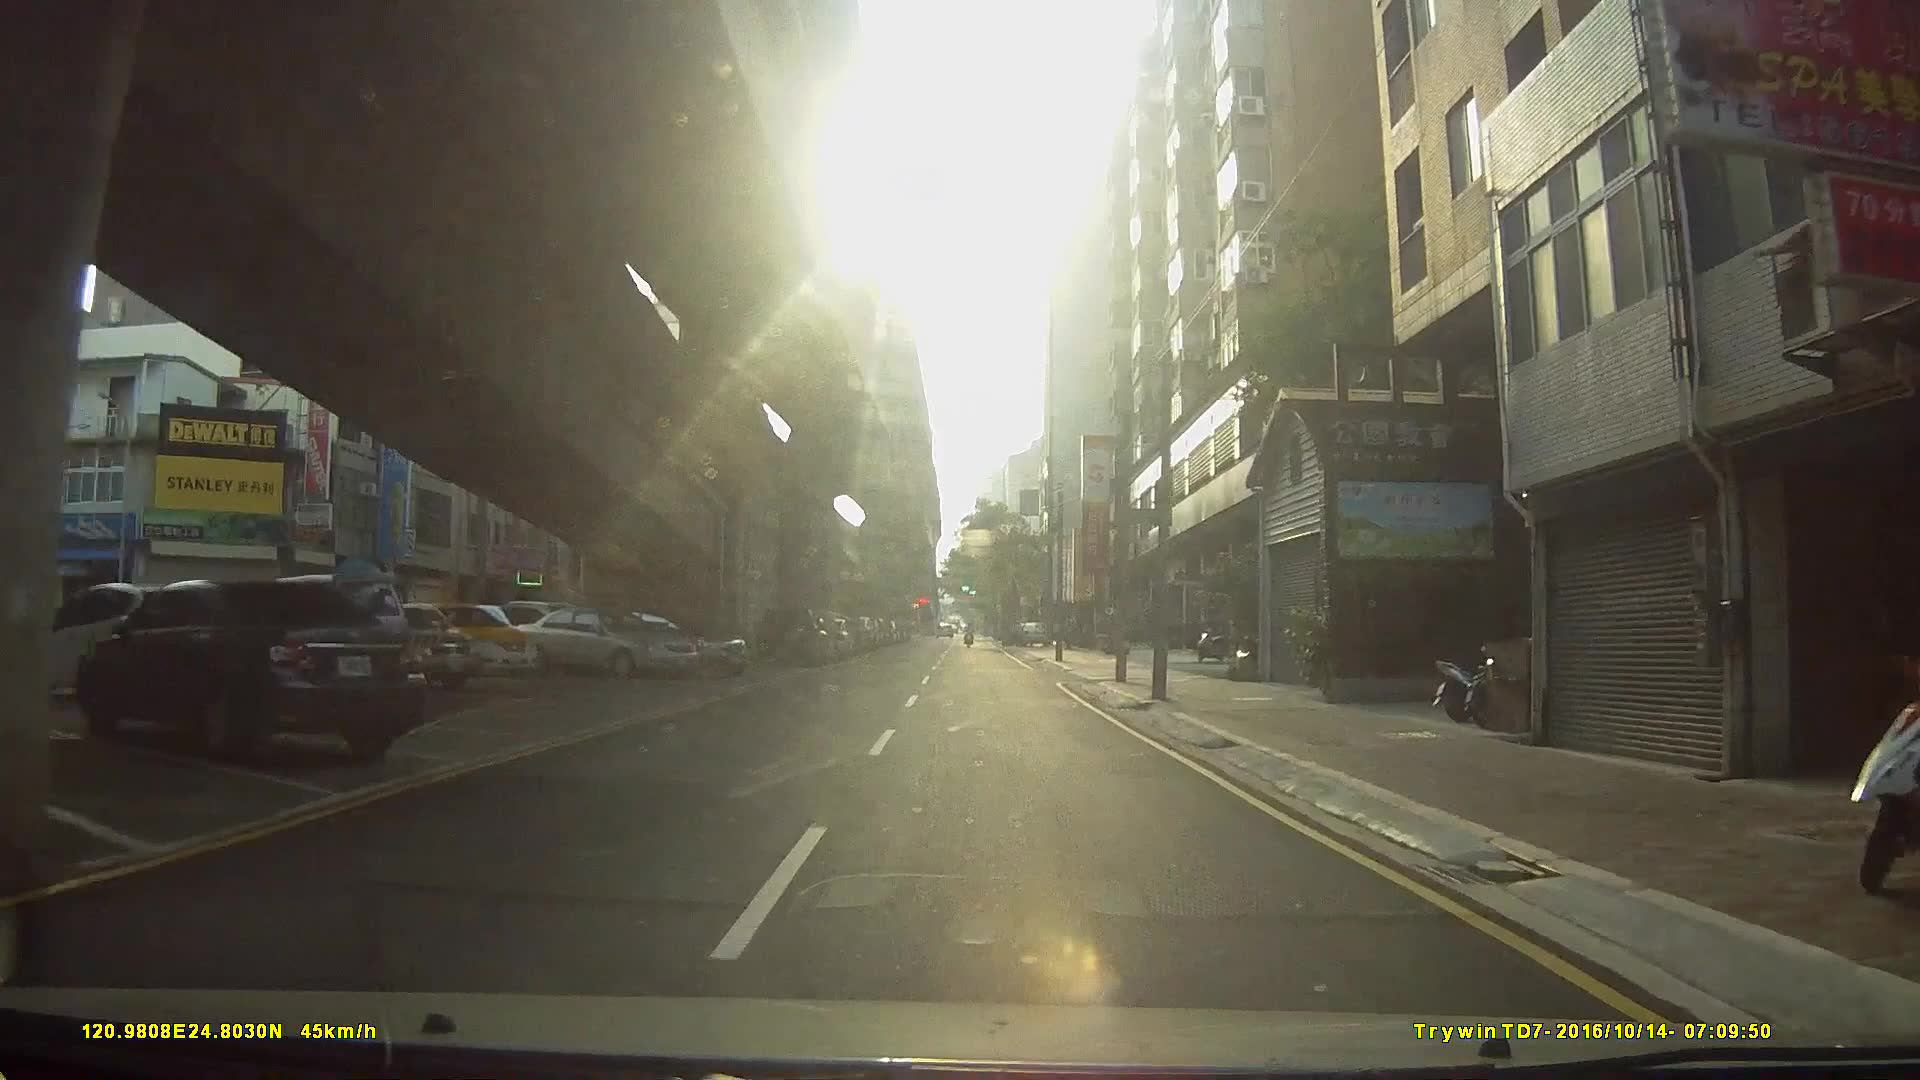vehicle: (74, 575, 423, 764), (13, 579, 207, 713), (309, 600, 476, 692), (505, 603, 698, 676), (571, 605, 746, 679), (394, 600, 535, 675), (752, 600, 829, 666)
